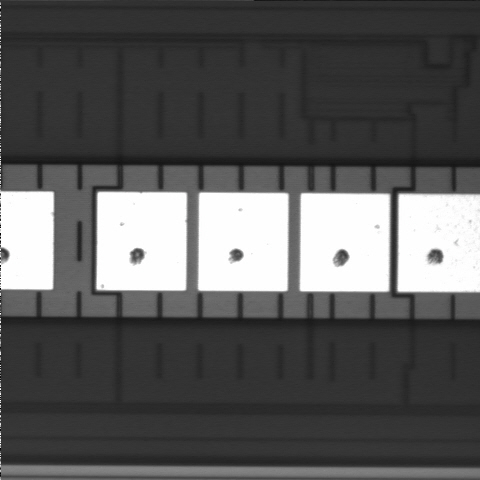pad: (97, 192, 187, 291), (300, 193, 390, 292), (198, 193, 288, 291)
